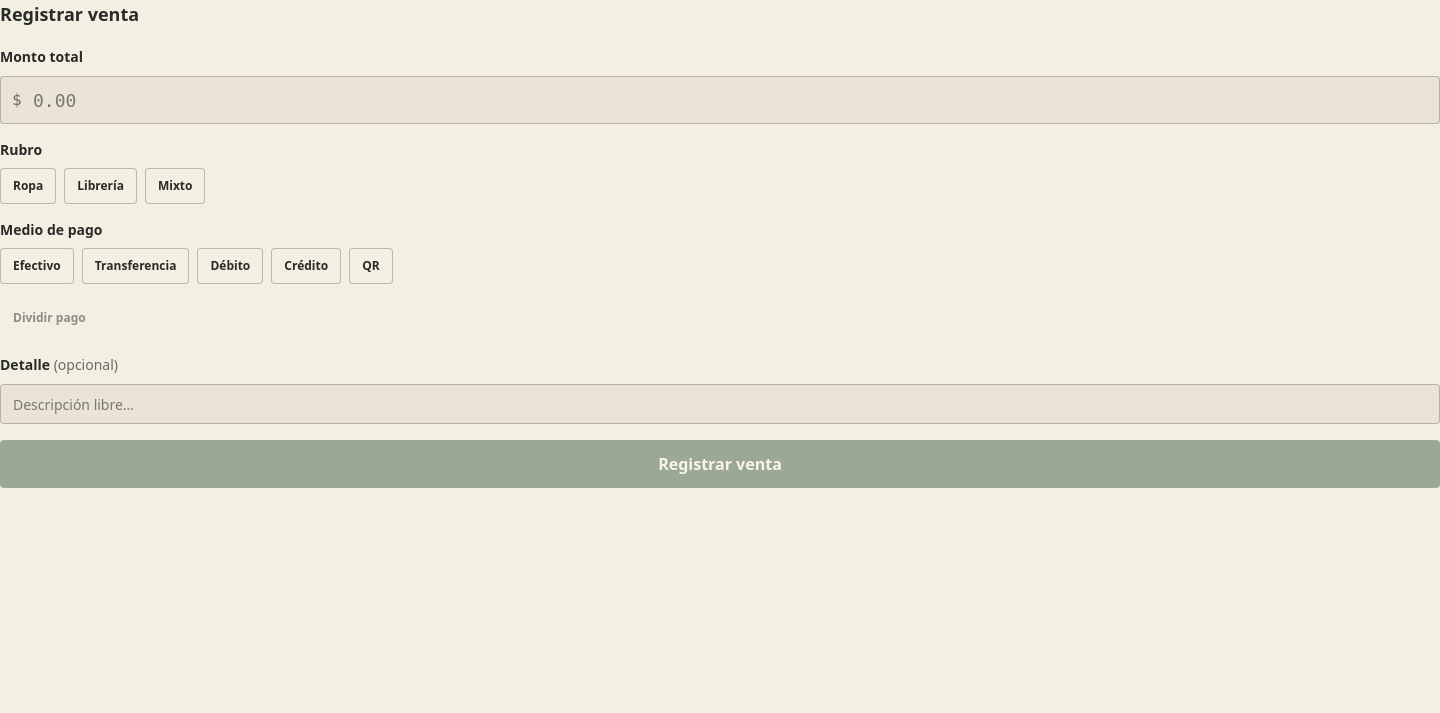
SaleForm › adds an additional payment and shows computed primary remainder
Type "100.00" into the field labelled "Monto total" at (720, 100), box [0,76,1439,124]
Click the button "Ropa" at (28, 186), box [0,168,56,204]
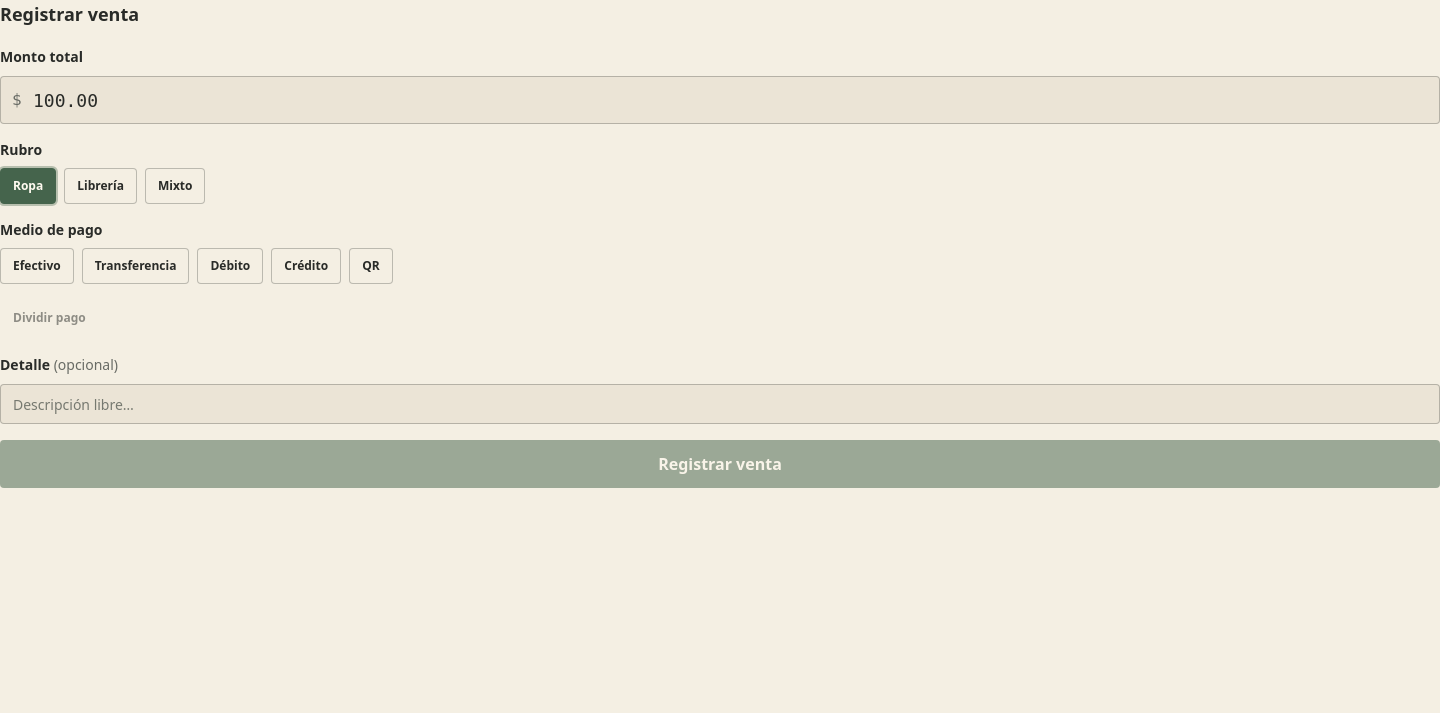
Click the button "Efectivo" at (37, 266), box [0,248,74,284]
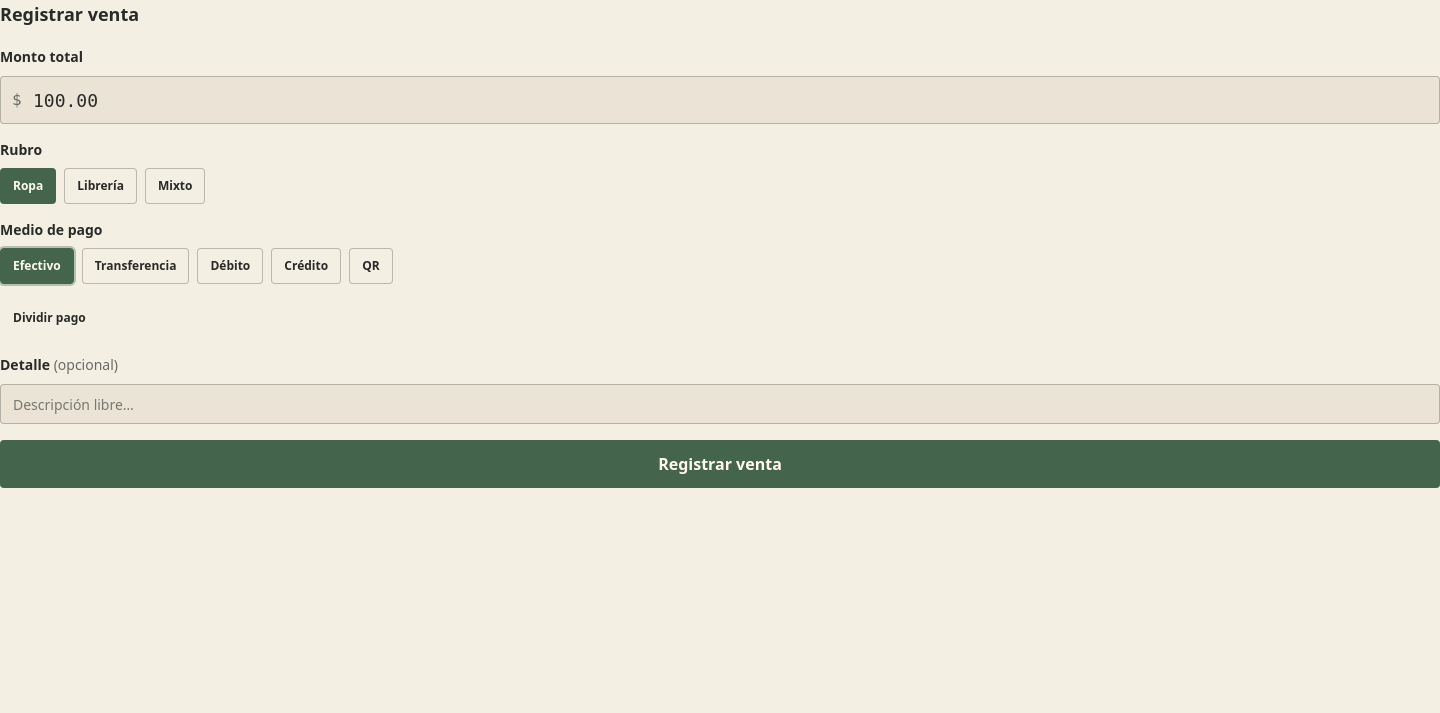
Enter split mode
Click the button "Dividir pago" at (49, 318), box [0,300,99,336]
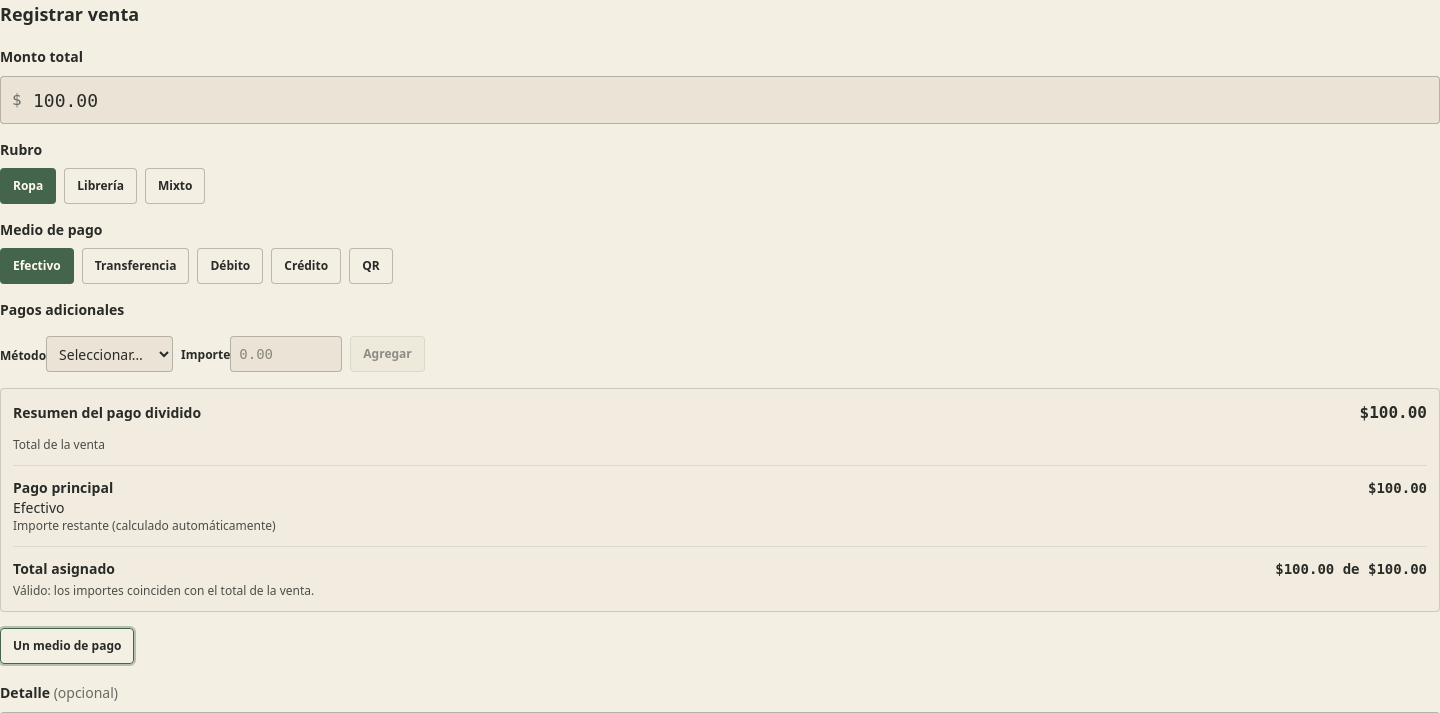
Select additional method and amount
Select "Débito" in the dropdown labelled "Método" at (110, 354), box [46,336,173,372]
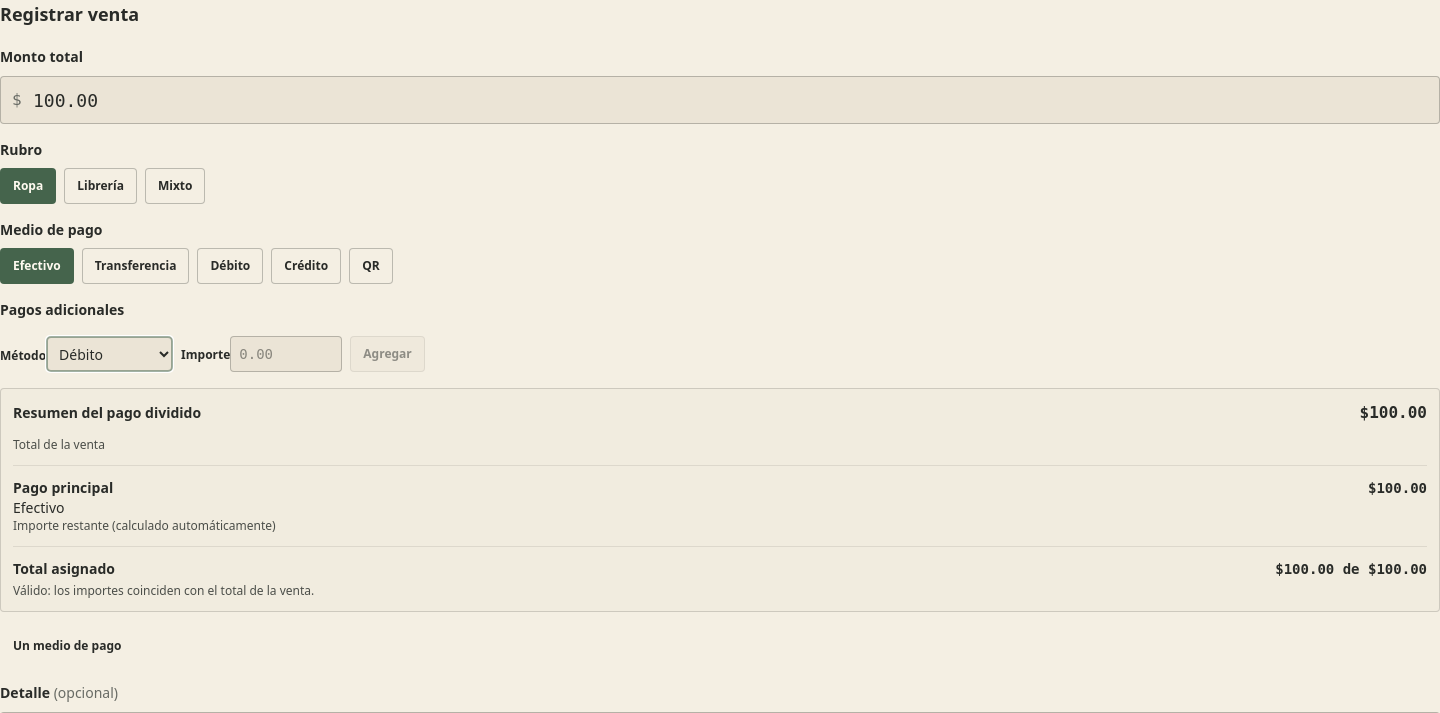
Type "30.00" into the field labelled "Importe" at (286, 354), box [230,336,342,372]
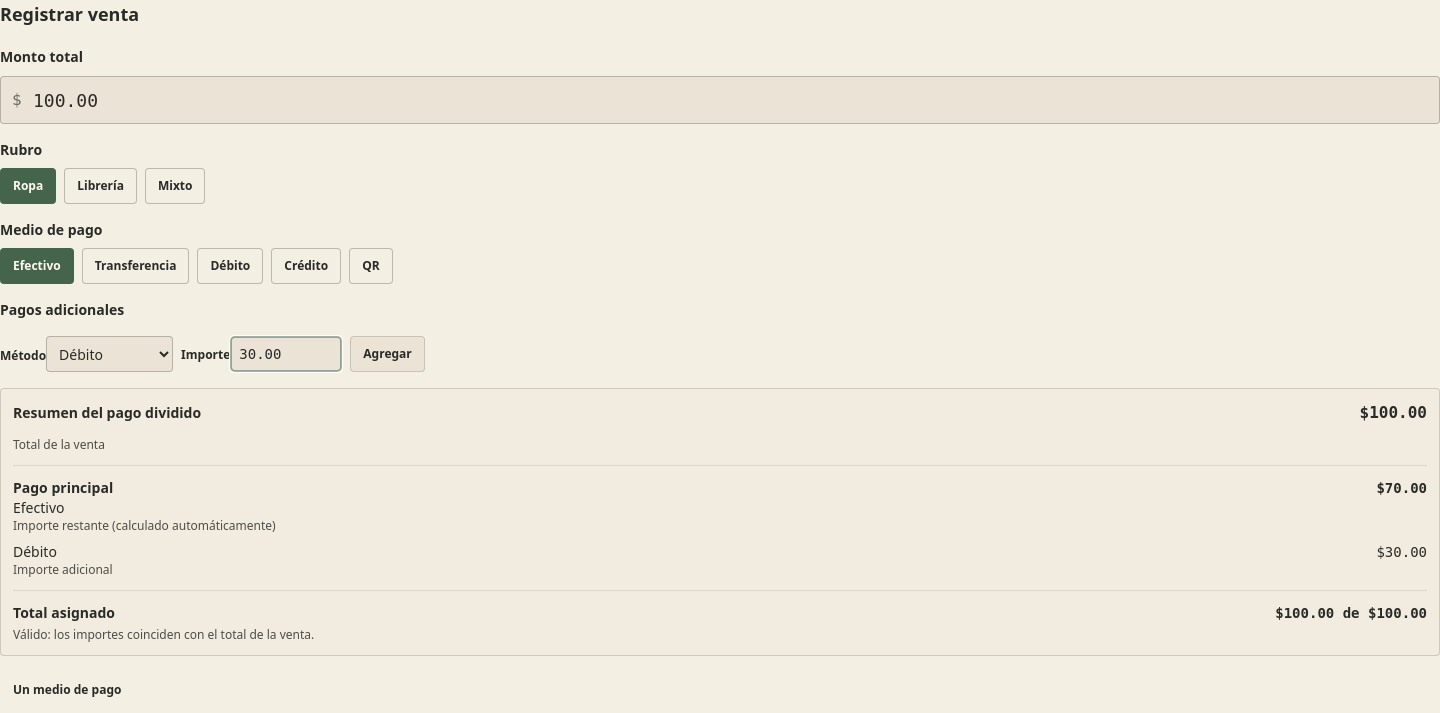
Click the button "Agregar" at (388, 354), box [350,336,425,372]
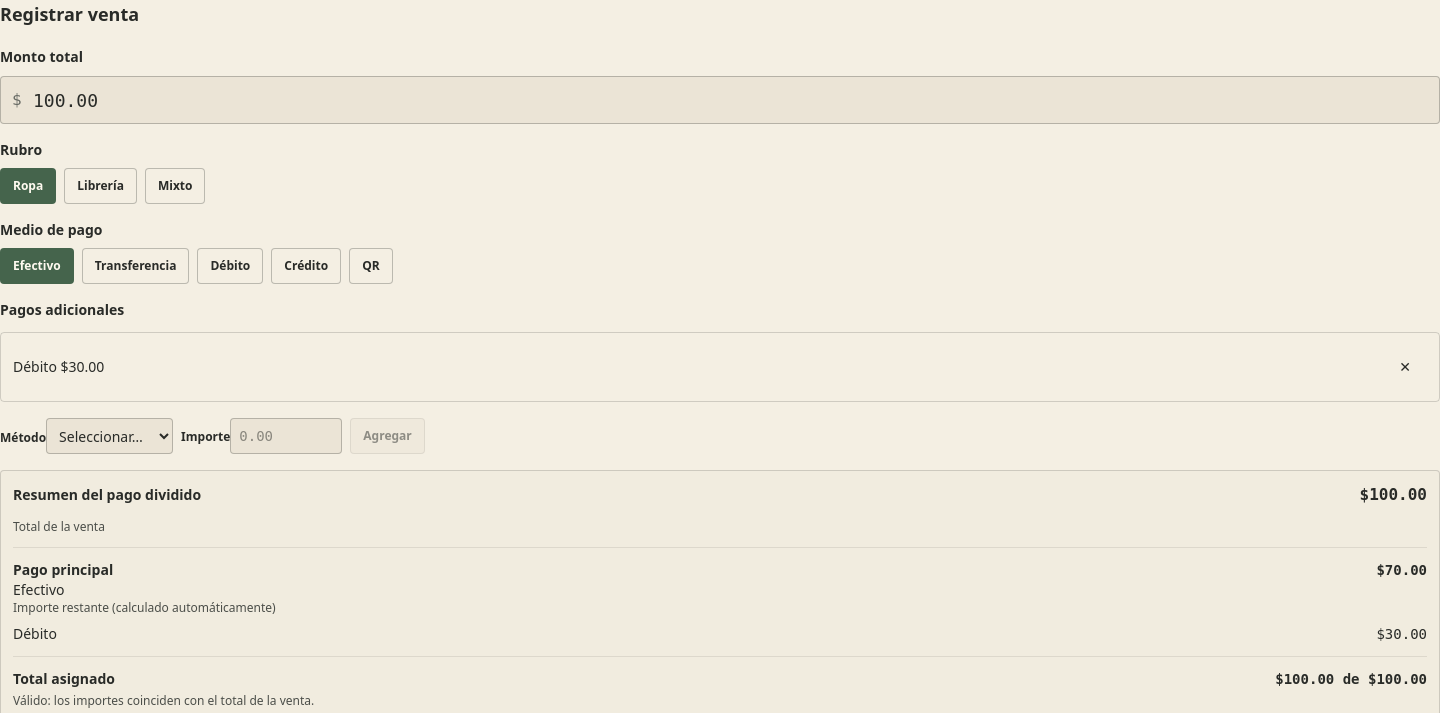
expect the text "Importe restante (calculado automáticamente)" is shown: met, box [13,600,276,616]
expect the text "$70.00" is shown: met, box [1376,560,1427,580]
expect the text "Débito $30.00" is shown: met, box [13,357,104,377]
